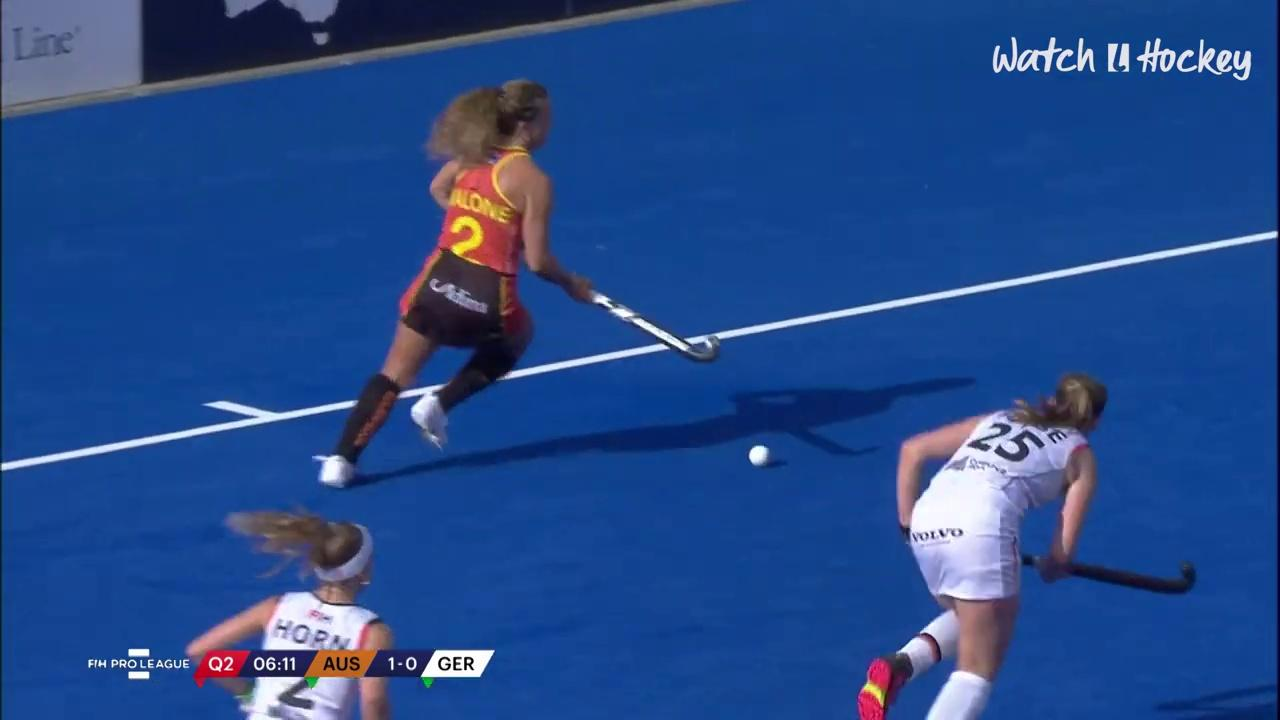ball: (739, 432, 775, 480)
